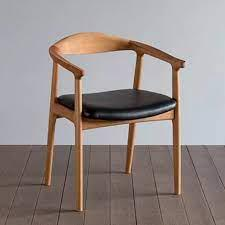chair: (19, 16, 196, 216)
